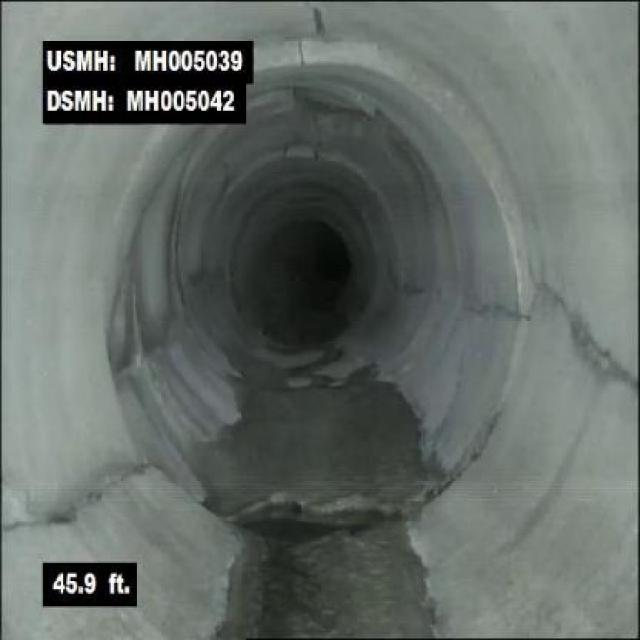Buckling: (256, 23, 442, 86)
Crack: (9, 459, 160, 546), (542, 286, 638, 406)
